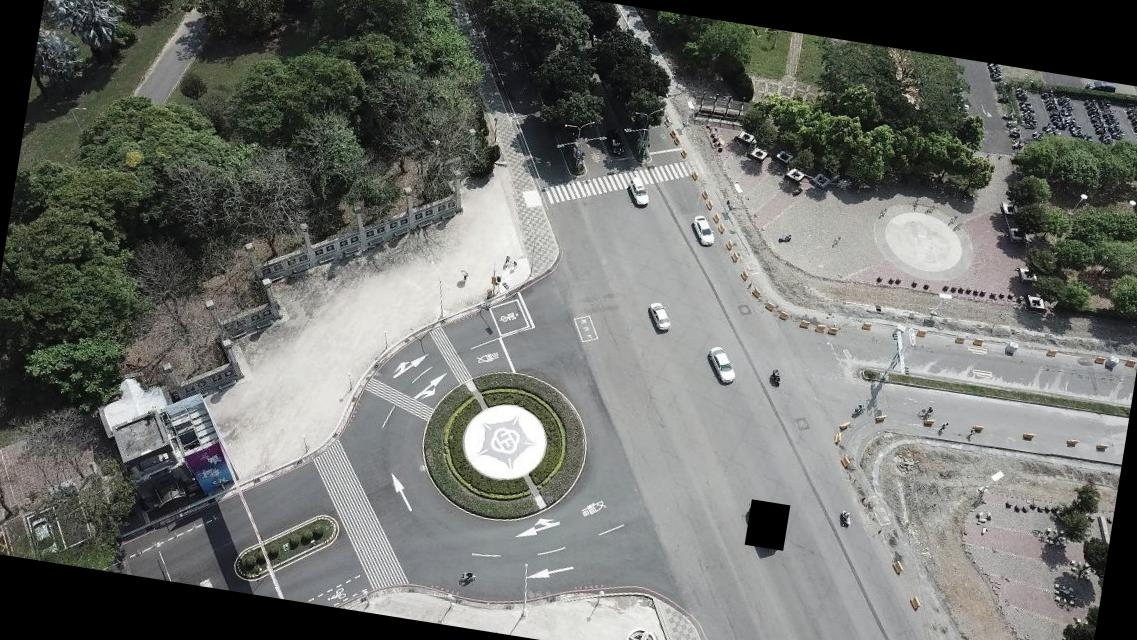vehicle: (27, 513, 64, 560), (703, 344, 739, 386), (645, 299, 675, 332), (689, 214, 718, 248), (626, 174, 654, 206), (1082, 78, 1114, 94)
